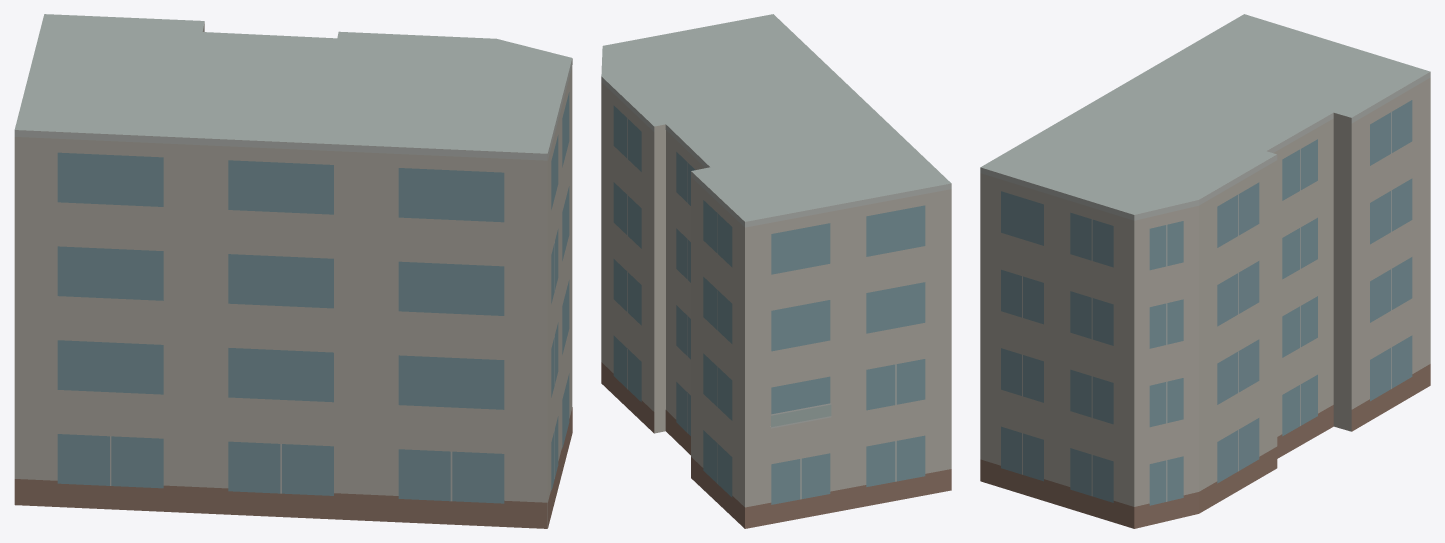
Rendered from survey-upis-32717591.glb.
3 renders of one model, left to right at view 1: azimuth 30°, elevation 25°; view 2: azimuth 150°, elevation 25°; view 3: azimuth 270°, elevation 25°, orthographic. The views are drawn at different scales.
Visible parts, largest first — view 1: survey-upis-32717591.tmp; view 2: survey-upis-32717591.tmp; view 3: survey-upis-32717591.tmp.
Part boxes in pixels (x1,y1,x2,y2): survey-upis-32717591.tmp: [14, 14, 572, 528]; survey-upis-32717591.tmp: [601, 14, 951, 528]; survey-upis-32717591.tmp: [980, 14, 1430, 528].
Bounding box in the file's own units: 18.2 × 13.25 × 17.24.
